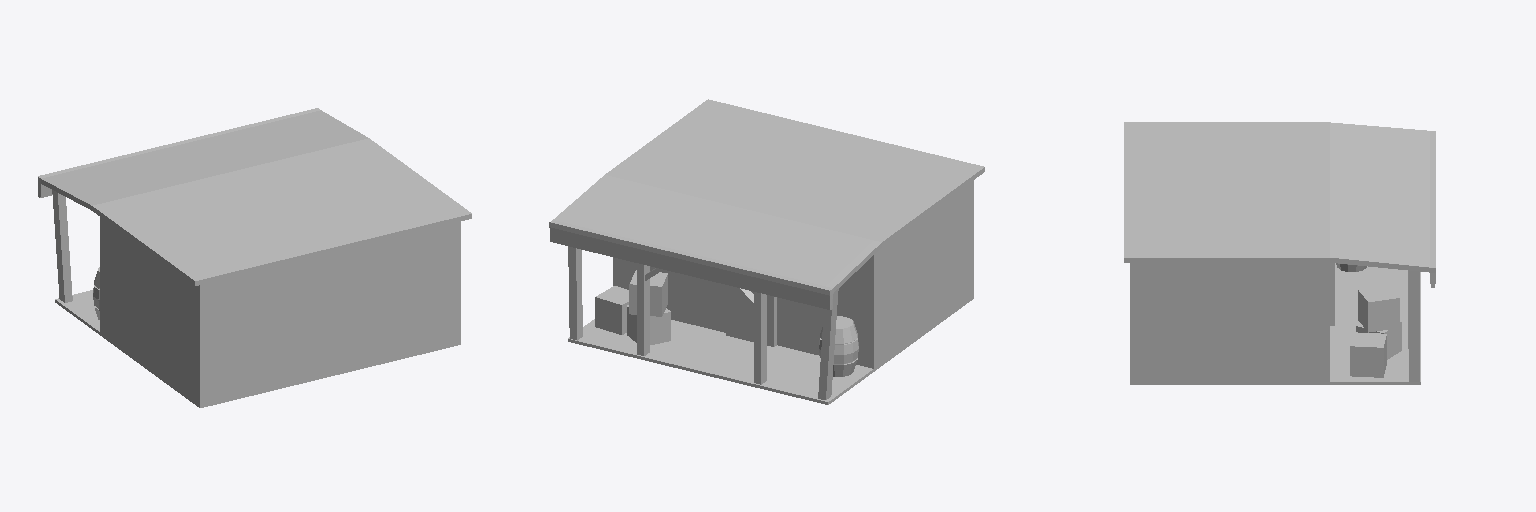
Rendered from mining_post.obj.
3 views of the same model, side by side, from view 1: azimuth 30°, elevation 25°; view 2: azimuth 150°, elevation 25°; view 3: azimuth 270°, elevation 25° (orthographic).
Parts seen in each view (by area): view 1: building, beams; view 2: building, beams, crates, front door, barrel; view 3: building, crates, beams.
Boxes of the visible parts, x1,y1,x2,y2 form: building: [38, 108, 471, 407]; beams: [52, 190, 72, 302]; building: [549, 99, 984, 404]; beams: [568, 246, 838, 399]; crates: [595, 270, 670, 344]; front door: [726, 285, 776, 346]; barrel: [819, 316, 858, 376]; building: [1124, 122, 1435, 384]; crates: [1350, 285, 1401, 377]; beams: [1408, 270, 1419, 381].
Size of the model in its own units: 1.83 by 0.8188 by 1.76.